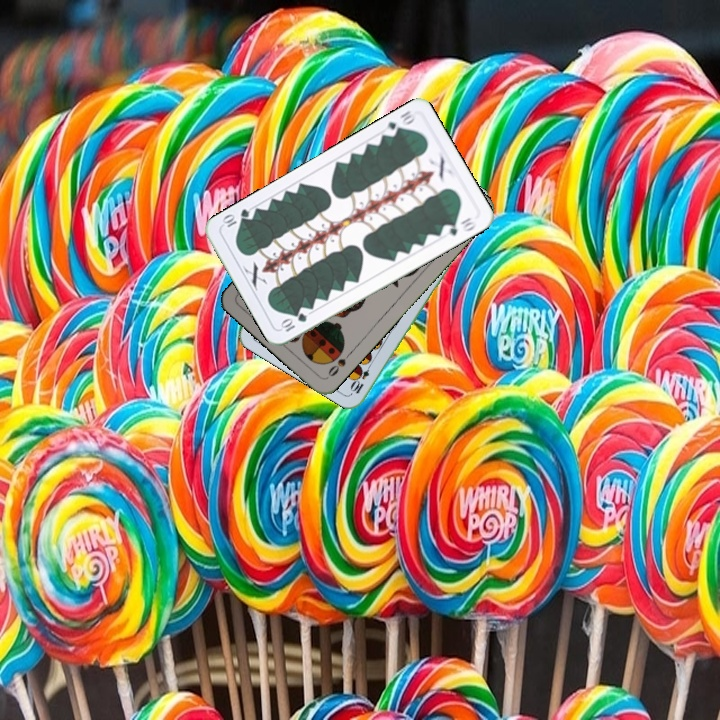E10: (347, 358, 375, 396)
G10: (379, 106, 419, 139), (277, 309, 309, 334)
SO: (324, 348, 354, 379)
